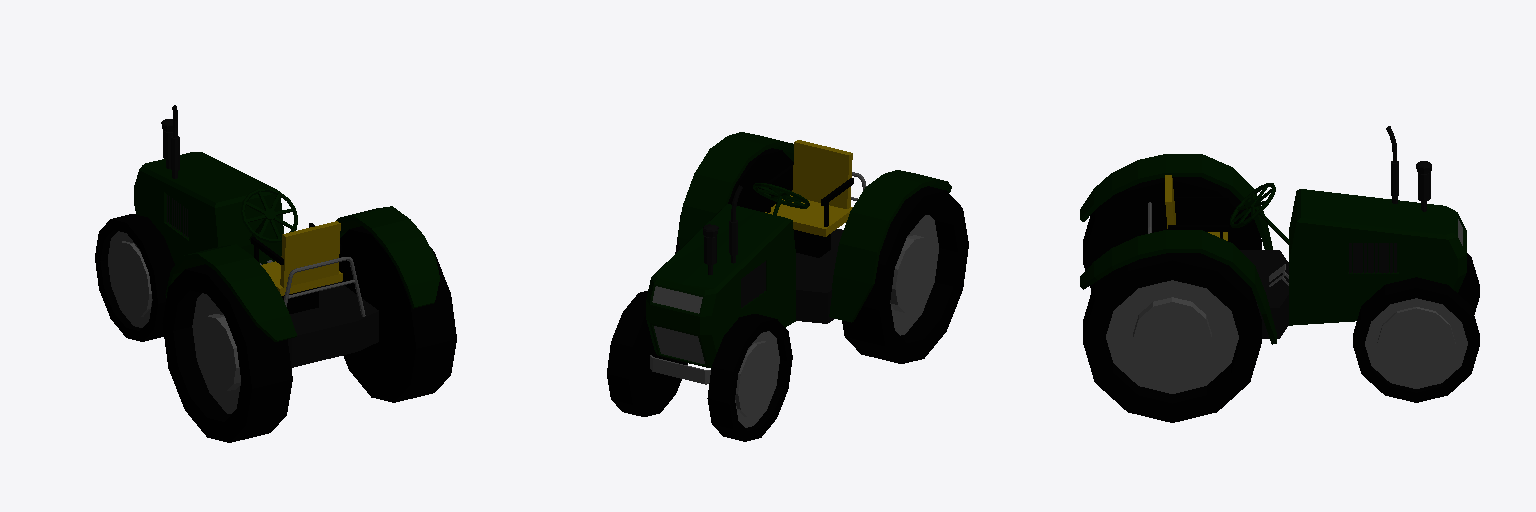
Rendered from Tractor.obj.
The picture shows the model from 3 angles: view 1: azimuth 30°, elevation 25°; view 2: azimuth 150°, elevation 25°; view 3: azimuth 270°, elevation 25°; orthographic projection.
Visible parts, largest first — view 1: Cylinder_Cylinder.001, Cube_Cube.001, Plane, Cylinder.001_Cylinder.002, Cube.001_Cube.002, Torus.001, Cylinder.002_Cylinder.004; view 2: Cube_Cube.001, Cylinder_Cylinder.001, Cylinder.001_Cylinder.002, Plane, Cube.001_Cube.002, Torus.001, Cylinder.003_Cylinder.005, Cylinder.004_Cylinder.006; view 3: Cylinder_Cylinder.001, Cube_Cube.001, Cylinder.001_Cylinder.002, Plane, Cube.001_Cube.002, Torus.001, Cylinder.003_Cylinder.005.
Part boxes in pixels (x1,y1,x2,y2): Cylinder_Cylinder.001: (162, 226, 456, 442); Cube_Cube.001: (134, 152, 378, 367); Plane: (165, 206, 439, 341); Cylinder.001_Cylinder.002: (95, 214, 174, 341); Cube.001_Cube.002: (251, 221, 342, 313); Torus.001: (241, 188, 297, 242); Cylinder.002_Cylinder.004: (284, 257, 365, 316); Cube_Cube.001: (646, 204, 843, 384); Cylinder_Cylinder.001: (675, 148, 968, 363); Cylinder.001_Cylinder.002: (607, 291, 792, 441); Plane: (678, 132, 951, 322); Cube.001_Cube.002: (763, 140, 853, 257); Torus.001: (753, 183, 809, 215); Cylinder.003_Cylinder.005: (703, 224, 718, 274); Cylinder.004_Cylinder.006: (729, 185, 742, 263); Cylinder_Cylinder.001: (1083, 177, 1261, 422); Cube_Cube.001: (1240, 189, 1466, 338); Cylinder.001_Cylinder.002: (1353, 253, 1479, 402); Plane: (1080, 154, 1276, 344); Cube.001_Cube.002: (1165, 175, 1229, 240); Torus.001: (1230, 183, 1289, 244); Cylinder.003_Cylinder.005: (1416, 161, 1431, 211).
Bounding box in the file's own units: 1.66 × 1.81 × 2.81.